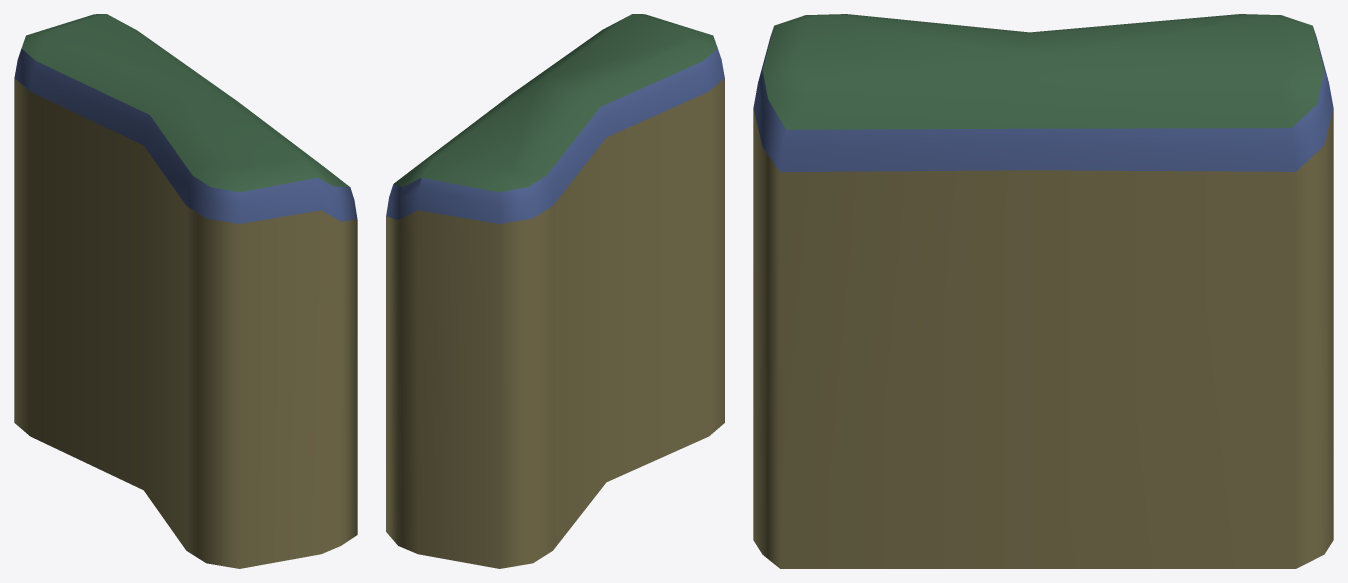
Rendered from Plat_der.fbx.
3 renders of one model, left to right at view 1: azimuth 30°, elevation 25°; view 2: azimuth 150°, elevation 25°; view 3: azimuth 270°, elevation 25°, orthographic. The views are drawn at different scales.
Parts seen in each view (by area): view 1: Plat_der, Ground1, Wall1; view 2: Plat_der, Ground1, Wall1; view 3: Plat_der, Ground1, Wall1.
Boxes of the visible parts, x1=… form: Plat_der: x1=14, y1=78, x2=357, y2=568; Ground1: x1=21, y1=14, x2=349, y2=192; Wall1: x1=14, y1=48, x2=357, y2=223; Plat_der: x1=386, y1=78, x2=724, y2=568; Ground1: x1=394, y1=14, x2=717, y2=192; Wall1: x1=386, y1=45, x2=724, y2=223; Plat_der: x1=753, y1=108, x2=1333, y2=568; Ground1: x1=762, y1=14, x2=1324, y2=129; Wall1: x1=753, y1=28, x2=1333, y2=172.
Size of the model in its own units: 2152 by 5452 by 5949.
